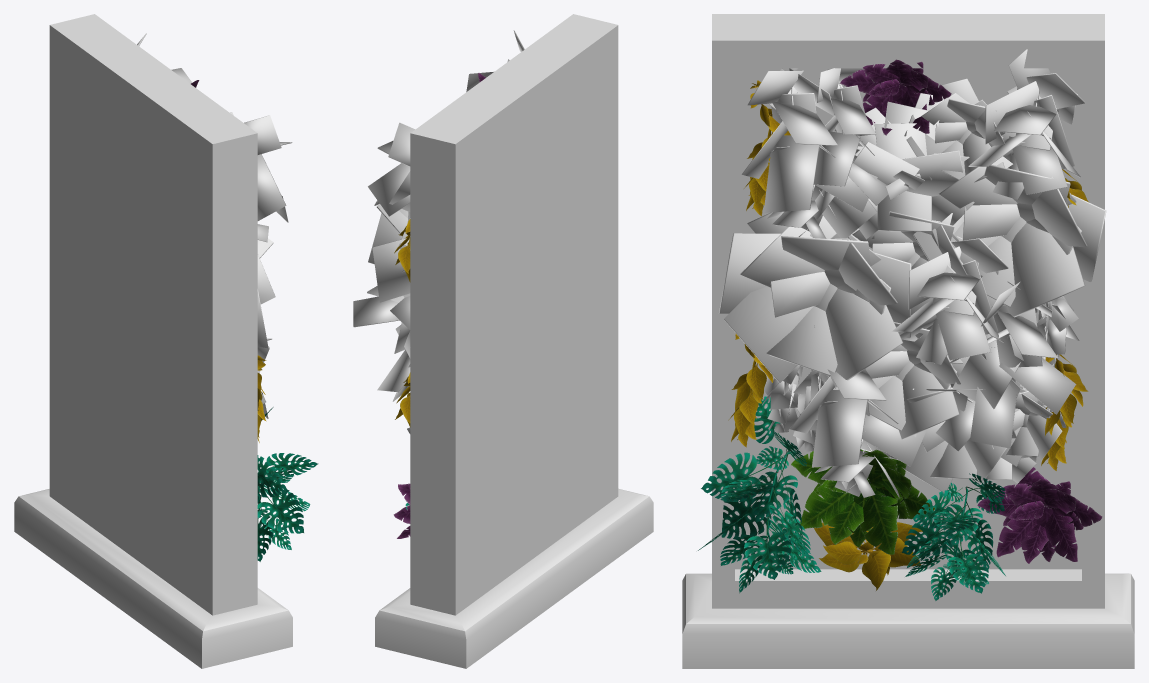
Rendered from JardinVerticalFinal 1.fbx.
The picture shows the model from 3 angles, left to right: view 1: azimuth 30°, elevation 25°; view 2: azimuth 150°, elevation 25°; view 3: azimuth 270°, elevation 25°; orthographic projection. The views are drawn at different scales.
Parts seen in each view (by area): view 1: Estructura, Jardin; view 2: Estructura, Jardin; view 3: Jardin, Estructura.
Boxes of the visible parts, x1,y1,x2,y2 form: Estructura: (14, 14, 292, 668); Jardin: (137, 33, 318, 561); Estructura: (375, 14, 653, 668); Jardin: (353, 30, 524, 538); Jardin: (698, 49, 1106, 600); Estructura: (682, 14, 1134, 668).
Size of the model in its own units: 709 by 2173 by 1441.
